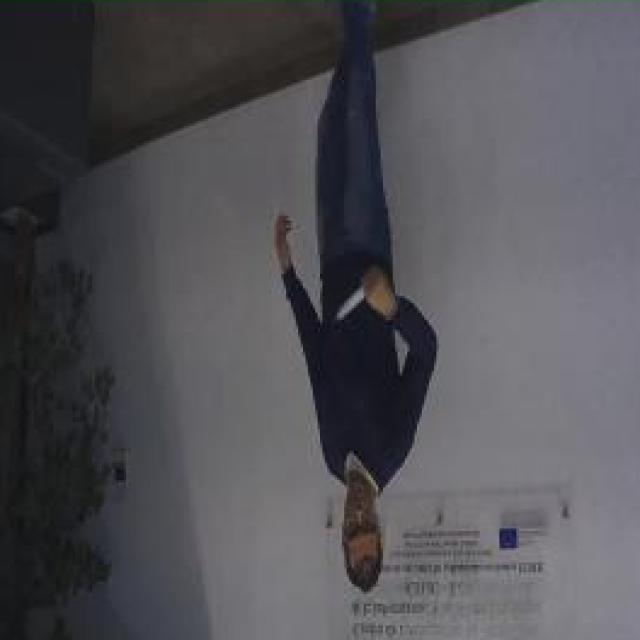knife: (332, 266, 382, 330)
